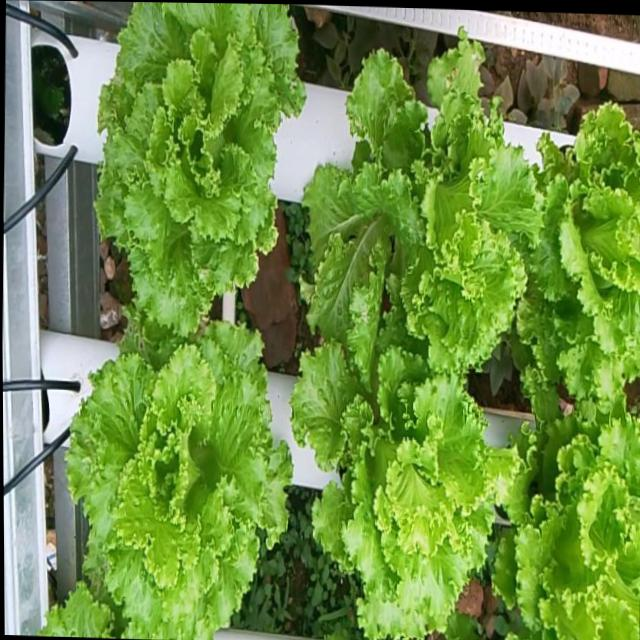Mature: (307, 38, 549, 375), (59, 330, 300, 640), (97, 2, 309, 348), (297, 327, 518, 640), (528, 95, 640, 397), (505, 395, 640, 640)
